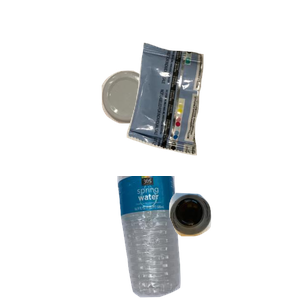glass: (166, 190, 300, 300)
metal: (99, 68, 244, 184)
plastic: (115, 176, 288, 300)
trash: (124, 40, 300, 188)
